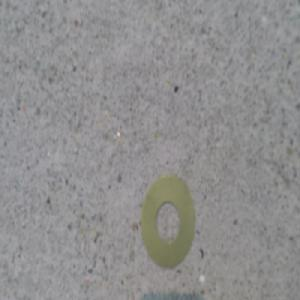Washer: (142, 170, 197, 265)
